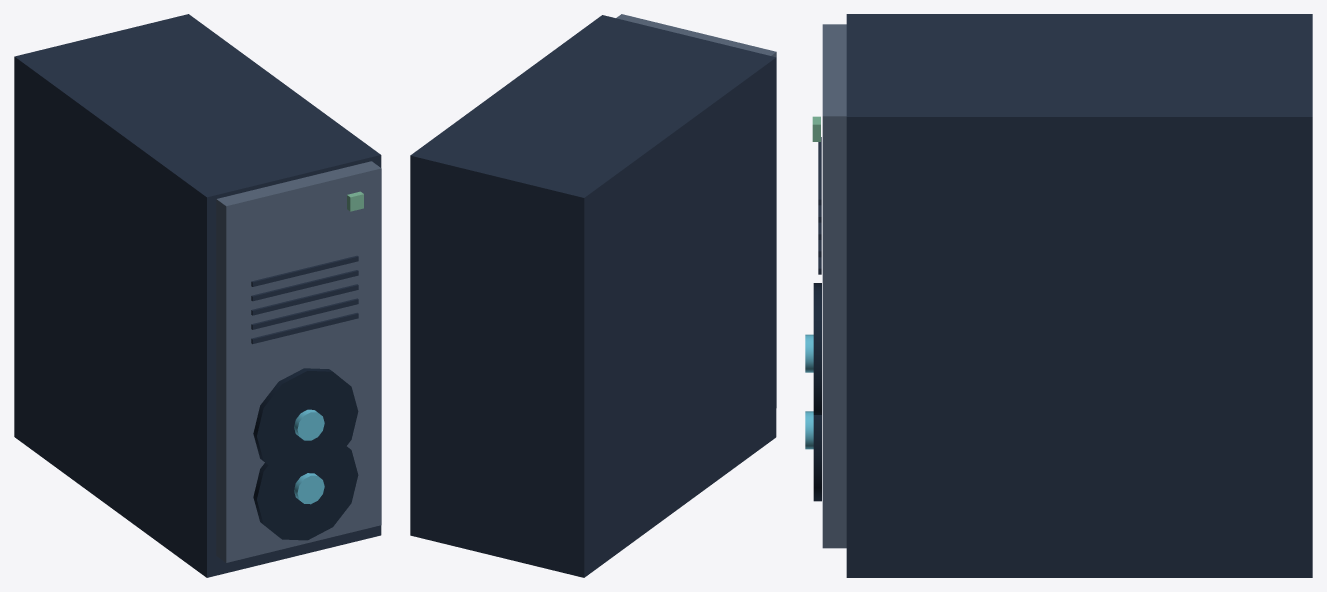
The model's file is officeComputerTower.glb.
3 views of the same model, side by side, from view 1: azimuth 30°, elevation 25°; view 2: azimuth 150°, elevation 25°; view 3: azimuth 270°, elevation 25° (orthographic). The views are drawn at different scales.
Size of the model in its own units: 0.23 by 0.48 by 0.479.
